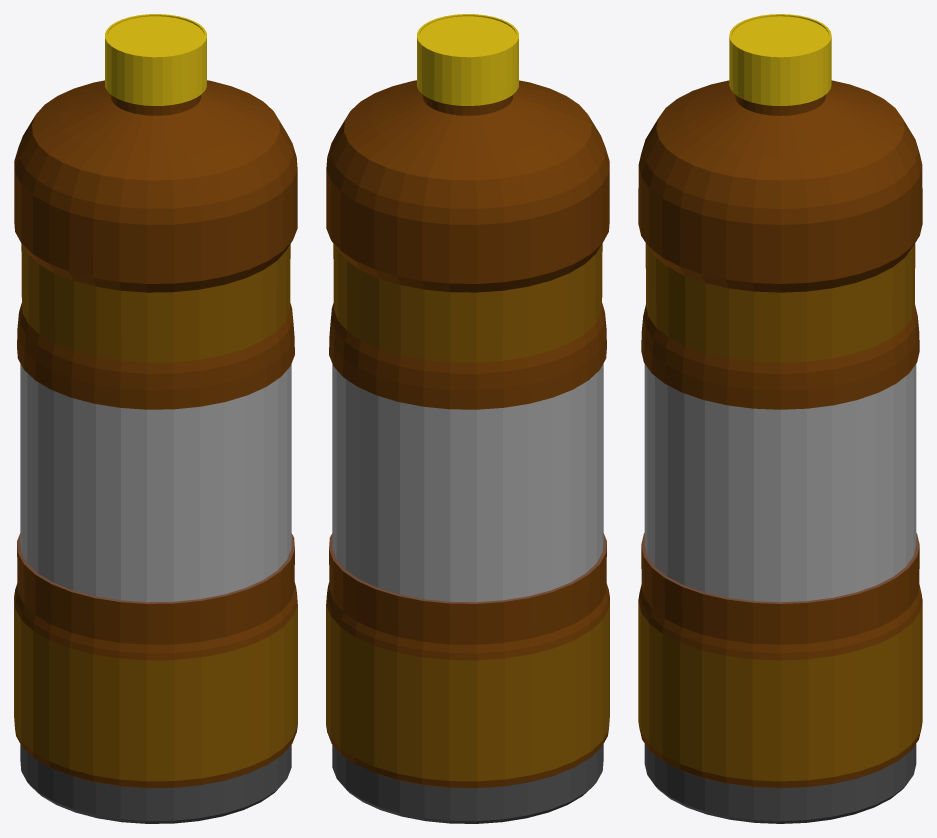
The model's file is Floor Cleaner Bottle.fbx.
3 renders of one model, left to right at view 1: azimuth 30°, elevation 25°; view 2: azimuth 150°, elevation 25°; view 3: azimuth 270°, elevation 25°, orthographic.
Visible parts, largest first — view 1: Floor Cleaner Bottle; view 2: Floor Cleaner Bottle; view 3: Floor Cleaner Bottle.
Part boxes in pixels (left/top/right/bottom): Floor Cleaner Bottle: left=14, top=14, right=297, bottom=823; Floor Cleaner Bottle: left=326, top=14, right=609, bottom=823; Floor Cleaner Bottle: left=638, top=14, right=922, bottom=823.
Bounding box in the file's own units: 14.18 × 40.32 × 14.18.
1 material, 1 textured.
